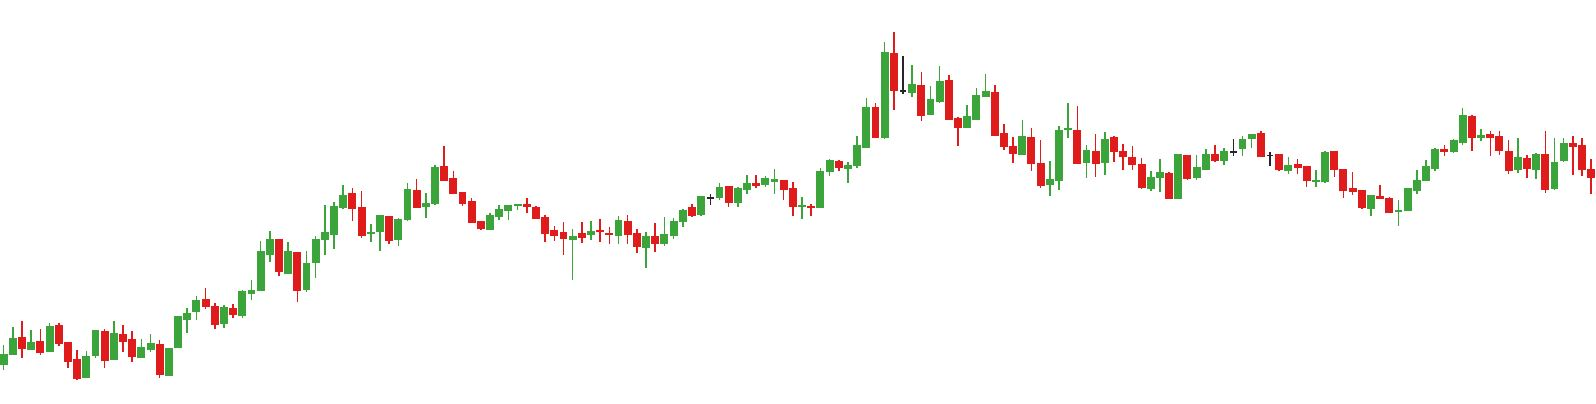buy: (724, 174, 826, 228), (108, 332, 175, 388)
